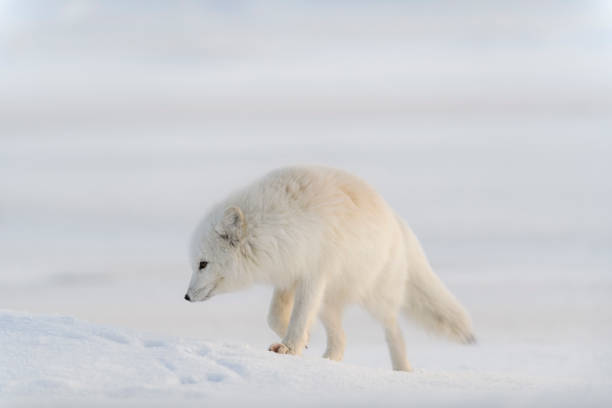arcticfox: (170, 209, 250, 312)
